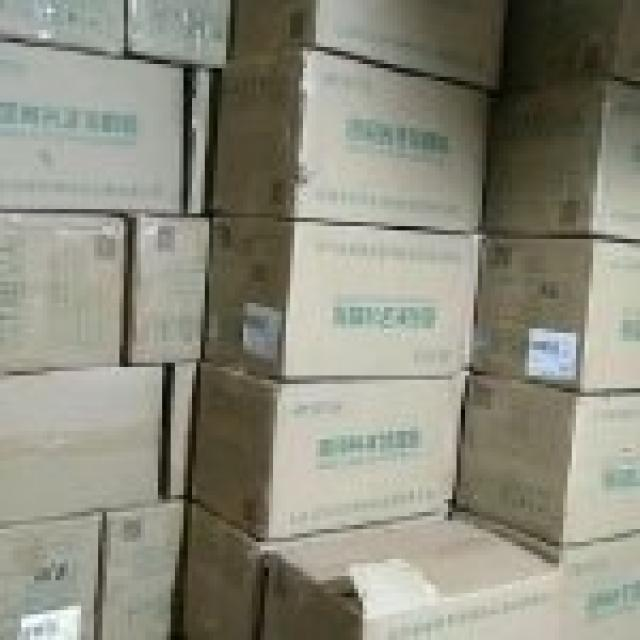box: (209, 47, 491, 235), (192, 363, 469, 538), (201, 213, 482, 380), (260, 516, 563, 640), (183, 503, 448, 640), (0, 43, 188, 213), (457, 375, 640, 546), (482, 68, 640, 243), (230, 0, 508, 94), (0, 367, 162, 525), (474, 239, 640, 393), (452, 508, 640, 640), (0, 213, 128, 375), (0, 512, 102, 640), (98, 495, 188, 640), (499, 0, 640, 90), (128, 218, 209, 363), (128, 0, 230, 68), (171, 363, 201, 495), (192, 73, 213, 213)
